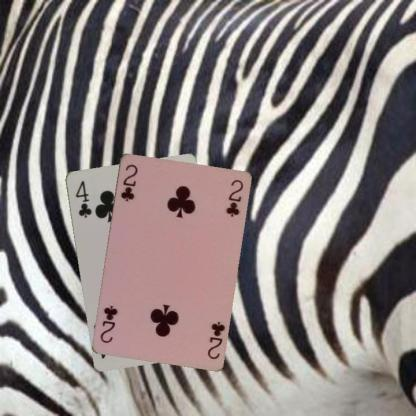2c: (204, 318, 226, 360), (118, 161, 139, 203)
4c: (72, 177, 93, 219)
